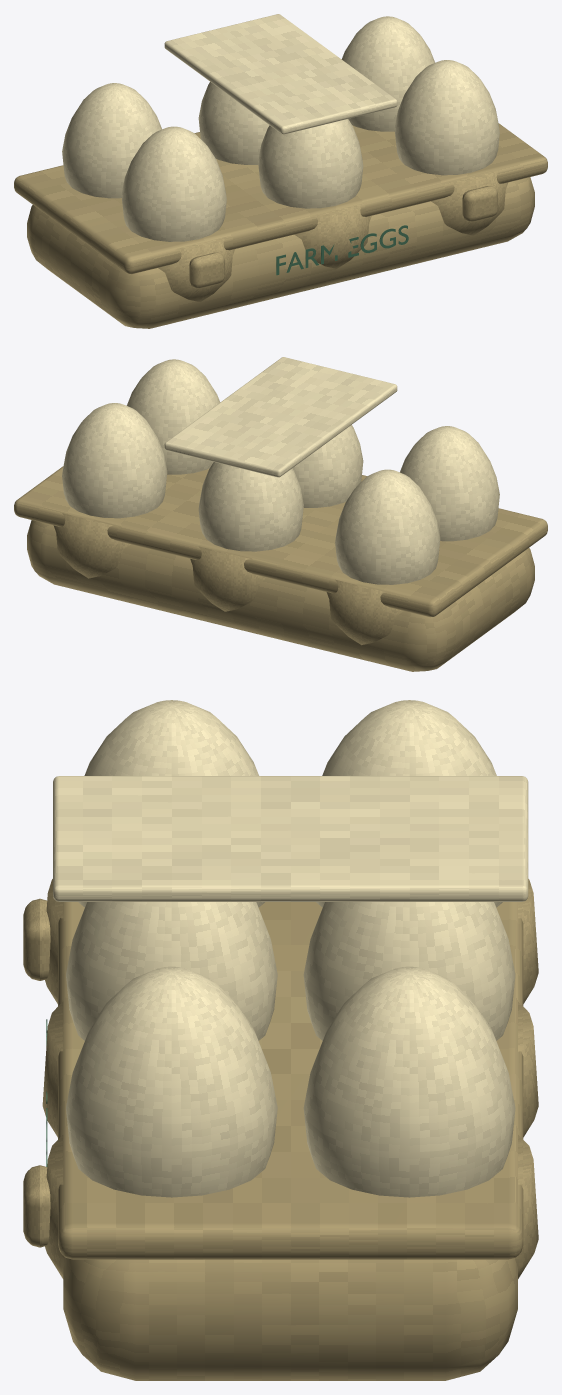
File: eggs.fbx
3 views of the same model, one above another, from view 1: azimuth 30°, elevation 25°; view 2: azimuth 150°, elevation 25°; view 3: azimuth 270°, elevation 25° (orthographic). The views are drawn at different scales.
Parts seen in each view (by area): view 1: Molded carton base, Pulp carton rim, Paper label band, Warm shell egg, Warm shell egg.004, Warm shell egg.002, Warm shell egg.001, Warm shell egg.005, Warm shell egg.003, Egg pocket.002, Egg pocket, Egg pocket.004 (+3 smaller); view 2: Molded carton base, Pulp carton rim, Paper label band, Warm shell egg.001, Warm shell egg.005, Warm shell egg.003, Warm shell egg, Warm shell egg.004, Warm shell egg.002, Egg pocket.003, Egg pocket.005, Egg pocket.001; view 3: Paper label band, Molded carton base, Pulp carton rim, Warm shell egg.004, Warm shell egg.005, Warm shell egg.002, Warm shell egg.003, Warm shell egg.001, Warm shell egg, Carton latch.001, Carton latch, Egg pocket.005 (+5 smaller).
Part boxes in pixels (x1,y1,x2,y2): Molded carton base: (27,177,534,328); Pulp carton rim: (14,123,547,274); Paper label band: (164,14,397,134); Warm shell egg: (121,126,226,241); Warm shell egg.004: (394,60,499,175); Warm shell egg.002: (258,119,363,208); Warm shell egg.001: (62,83,161,198); Warm shell egg.005: (341,16,435,131); Warm shell egg.003: (198,82,269,164); Egg pocket.002: (294,203,371,268); Egg pocket: (158,236,235,302); Egg pocket.004: (431,170,508,235); Molded carton base: (27,520,534,671); Pulp carton rim: (14,466,547,617); Paper label band: (164,357,397,477); Warm shell egg.001: (335,469,440,584); Warm shell egg.005: (62,403,167,518); Warm shell egg.003: (198,462,303,551); Warm shell egg: (400,426,499,541); Warm shell egg.004: (126,359,220,474); Warm shell egg.002: (292,425,363,507); Egg pocket.003: (190,546,267,611); Egg pocket.005: (53,513,130,578); Egg pocket.001: (326,579,403,645); Paper label band: (53,776,528,901); Molded carton base: (63,1258,517,1380); Pulp carton rim: (58,902,523,1259); Warm shell egg.004: (66,966,277,1197); Warm shell egg.005: (303,966,515,1197); Warm shell egg.002: (66,902,277,1040); Warm shell egg.003: (303,902,515,1040); Warm shell egg.001: (316,700,502,907); Warm shell egg: (78,700,264,907); Carton latch.001: (23,1165,50,1247); Carton latch: (23,898,50,980); Egg pocket.005: (514,1135,538,1278).
Size of the model in its own units: 189 by 78.75 by 99.75.
Materials: 3 (2 with a texture image).
